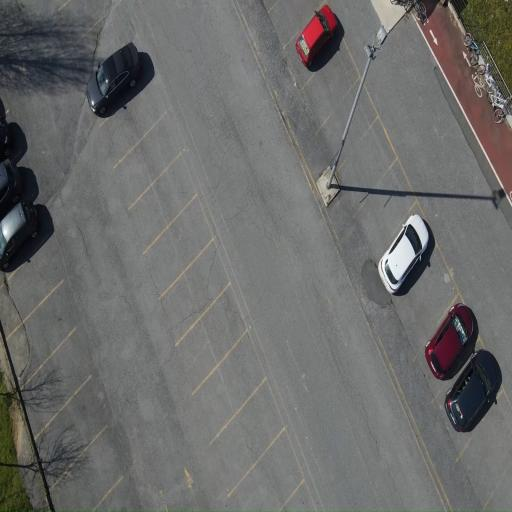person: (445, 350, 498, 431), (378, 215, 428, 293), (87, 43, 140, 114), (425, 304, 473, 378), (296, 5, 337, 67), (0, 201, 37, 269), (0, 160, 21, 215), (0, 116, 11, 156)
